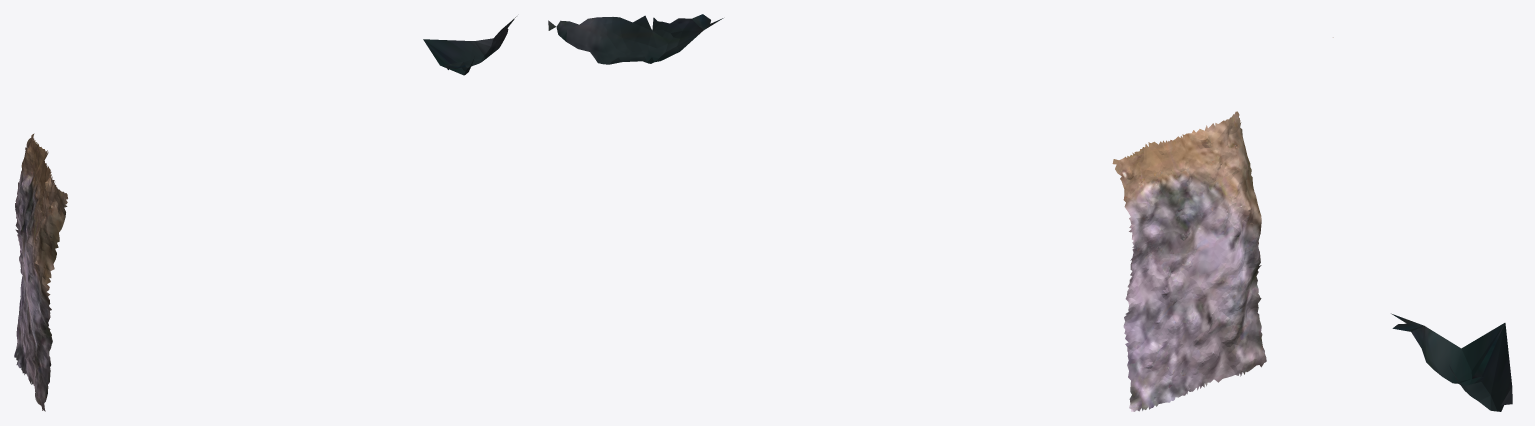
Rendered from tile_0392.gltf.
3 views of the same model, side by side, from view 1: azimuth 30°, elevation 25°; view 2: azimuth 150°, elevation 25°; view 3: azimuth 270°, elevation 25° (orthographic). The views are drawn at different scales.
Visible parts, largest first — view 1: defaultobject; view 2: defaultobject; view 3: defaultobject.
Part boxes in pixels (x1,y1,x2,y2): defaultobject: (14,16,516,411); defaultobject: (548,14,1266,411); defaultobject: (1333,37,1512,411).
Bounding box in the file's own units: 0.5592 × 0.213 × 0.1329.
Materials: 2 (2 with a texture image).
